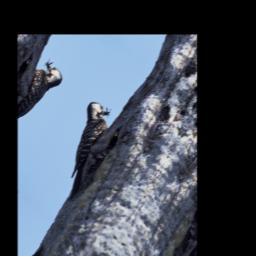Woodpecker: (44, 93, 129, 209)
